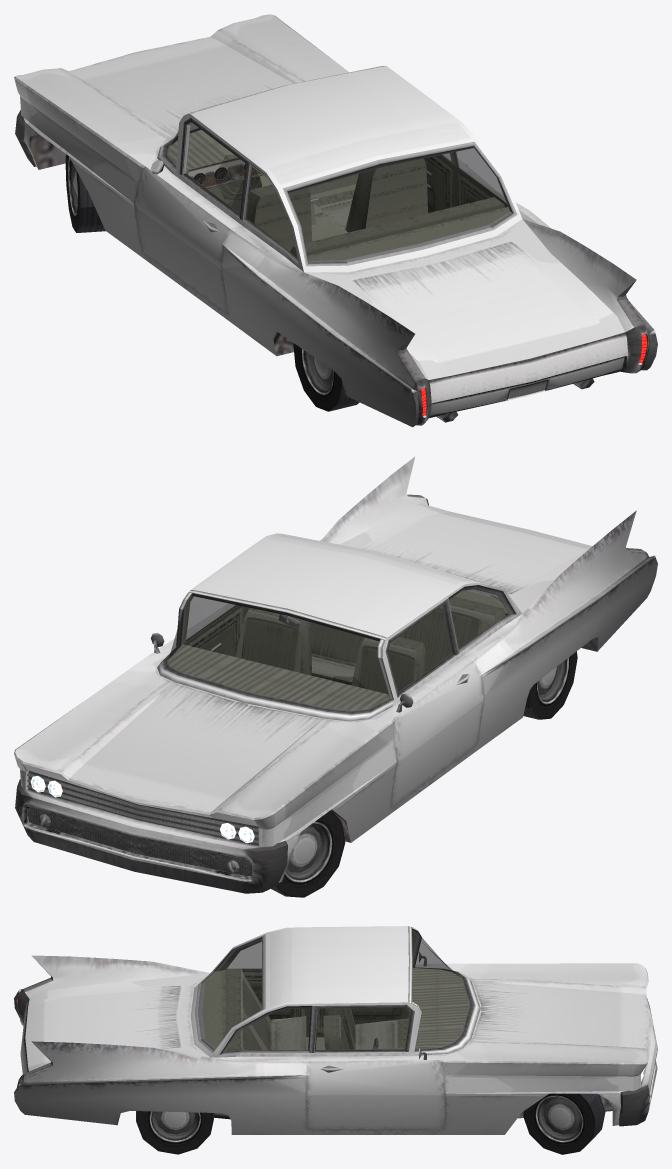
File: car.glb
3 renders of one model, top to bottom at view 1: azimuth 30°, elevation 25°; view 2: azimuth 150°, elevation 25°; view 3: azimuth 270°, elevation 25°, orthographic. The views are drawn at different scales.
Visible parts, largest first — view 1: car60s_MainBody, car60s_Side_BackGlass, car60s_TrunkDoor, hood, car60s_LeftDoor, car60s_RearBump, car60s_IntenalCapsule, car60s_RightSeat, car60s_LeftWindow, car60s_BackSeat, car60s_DriverSeat, car60s_Internal01 (+5 smaller); view 2: car60s_MainBody, hood, car60s_WindShield, car60s_FrontBumper, car60s_LeftDoor, car60s_TrunkDoor, car60s_Internal01, car60s_BackSeat, car60s_RearBump, car60s_RightSeat, wheels, car60s_LeftWindow (+9 smaller); view 3: car60s_MainBody, car60s_RightDoor, hood, car60s_TrunkDoor, car60s_Side_BackGlass, car60s_WindShield, wheels.002, car60s_RightWindow, car60s_BackSeat, car60s_Internal01, car60s_IntenalCapsule, wheels.003 (+5 smaller).
Part boxes in pixels (x1,y1,x2,y2): car60s_MainBody: [14, 14, 657, 427]; car60s_Side_BackGlass: [246, 146, 512, 262]; car60s_TrunkDoor: [357, 243, 604, 375]; hood: [69, 36, 292, 136]; car60s_LeftDoor: [134, 117, 248, 309]; car60s_RearBump: [413, 325, 649, 425]; car60s_IntenalCapsule: [207, 152, 509, 260]; car60s_RightSeat: [315, 158, 427, 232]; car60s_LeftWindow: [184, 123, 245, 215]; car60s_BackSeat: [290, 197, 504, 257]; car60s_DriverSeat: [247, 184, 312, 250]; car60s_Internal01: [168, 130, 262, 188]; car60s_MainBody: [14, 456, 657, 882]; hood: [68, 682, 322, 817]; car60s_WindShield: [168, 593, 388, 710]; car60s_FrontBumper: [15, 779, 287, 893]; car60s_LeftDoor: [385, 599, 482, 803]; car60s_TrunkDoor: [369, 512, 592, 592]; car60s_Internal01: [168, 644, 389, 710]; car60s_BackSeat: [310, 596, 505, 684]; car60s_RearBump: [28, 498, 648, 875]; car60s_RightSeat: [235, 608, 311, 675]; wheels: [271, 811, 345, 897]; car60s_LeftWindow: [388, 605, 453, 693]; car60s_MainBody: [14, 926, 648, 1134]; car60s_RightDoor: [308, 1004, 444, 1126]; hood: [471, 981, 652, 1049]; car60s_TrunkDoor: [25, 988, 180, 1066]; car60s_Side_BackGlass: [198, 937, 310, 1051]; car60s_WindShield: [412, 929, 468, 1048]; wheels.002: [523, 1093, 605, 1154]; car60s_RightWindow: [315, 1008, 409, 1050]; car60s_BackSeat: [225, 968, 306, 1051]; car60s_Internal01: [412, 967, 468, 1048]; car60s_IntenalCapsule: [202, 939, 404, 1049]; wheels.003: [136, 1111, 214, 1154].
Size of what is drawn, in the model's own units: 2.2 by 1.46 by 5.71.
5 materials, 5 textured.
